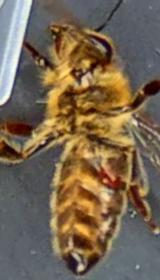varroa_mite: (91, 158, 123, 197)
